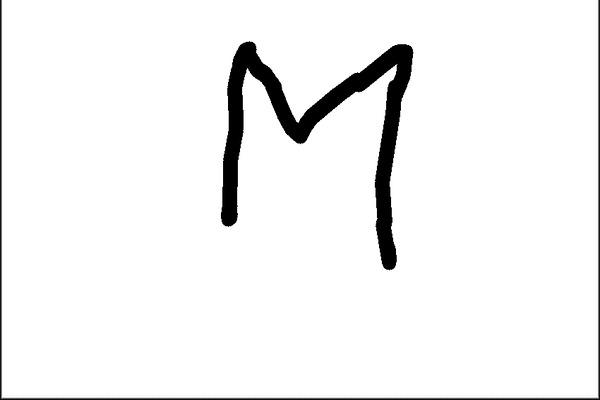M: (218, 33, 414, 275)
